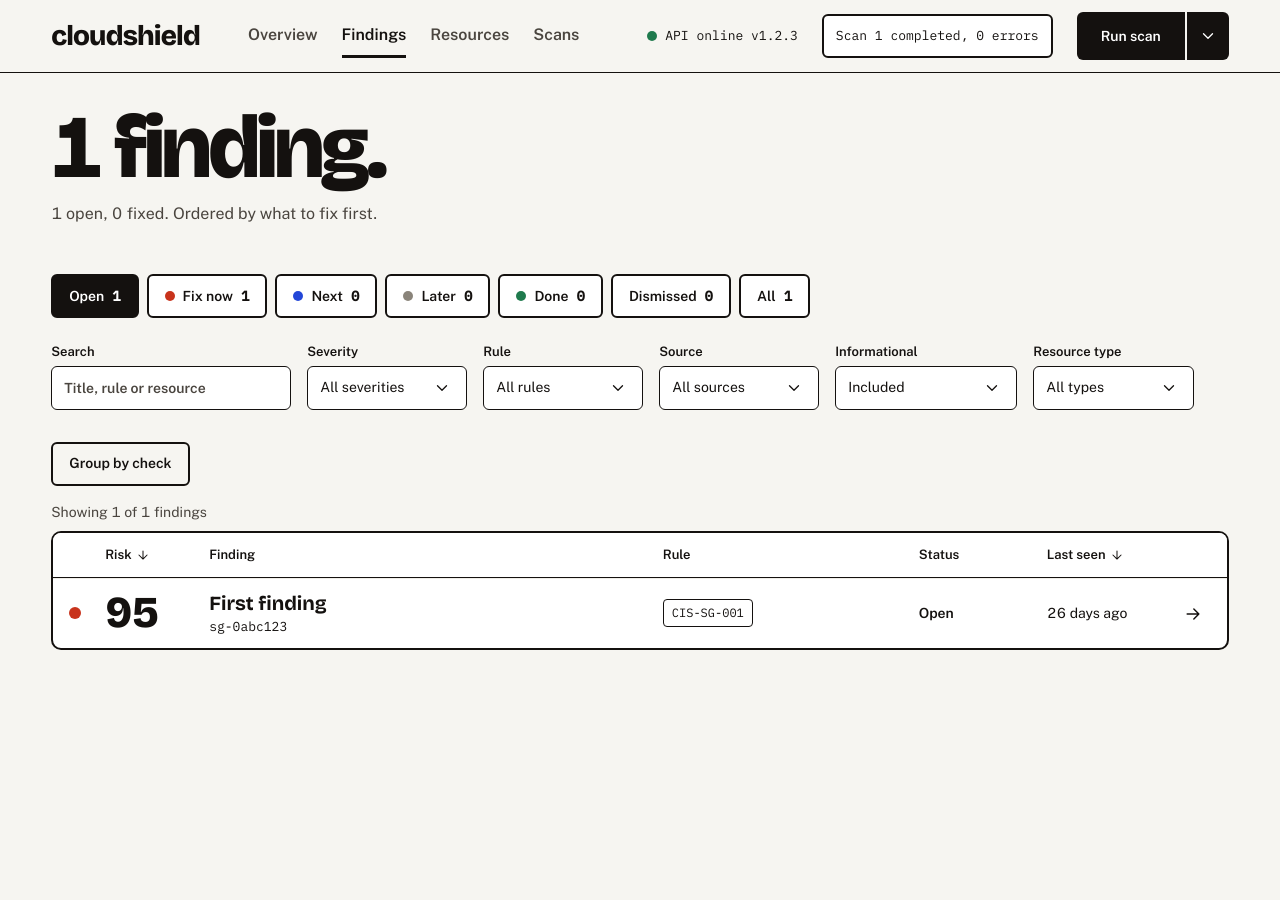
Test: lists keep their elements when data is fetched again › does not show the loading text again while a list is fetched again
The image size is (1280, 900).
Expected: the link "First finding" is shown, [209,591,327,615]
What coordinates should you click on to do the following:
click the button "Run scan"
I would click on:
 (1131, 36)
Its box is [1077,12,1185,60].
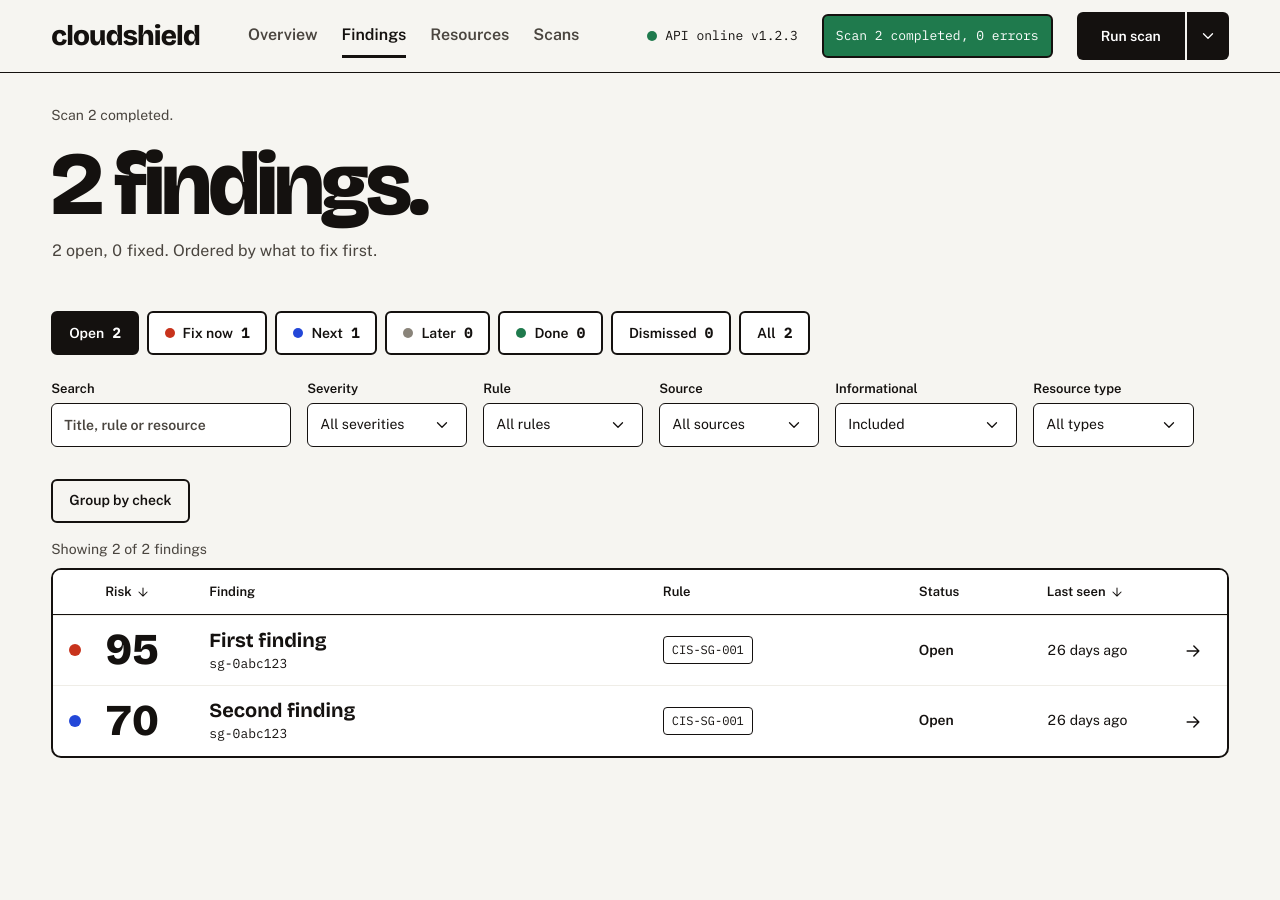
Now the link "Second finding" is shown, box [209,698,355,722]
